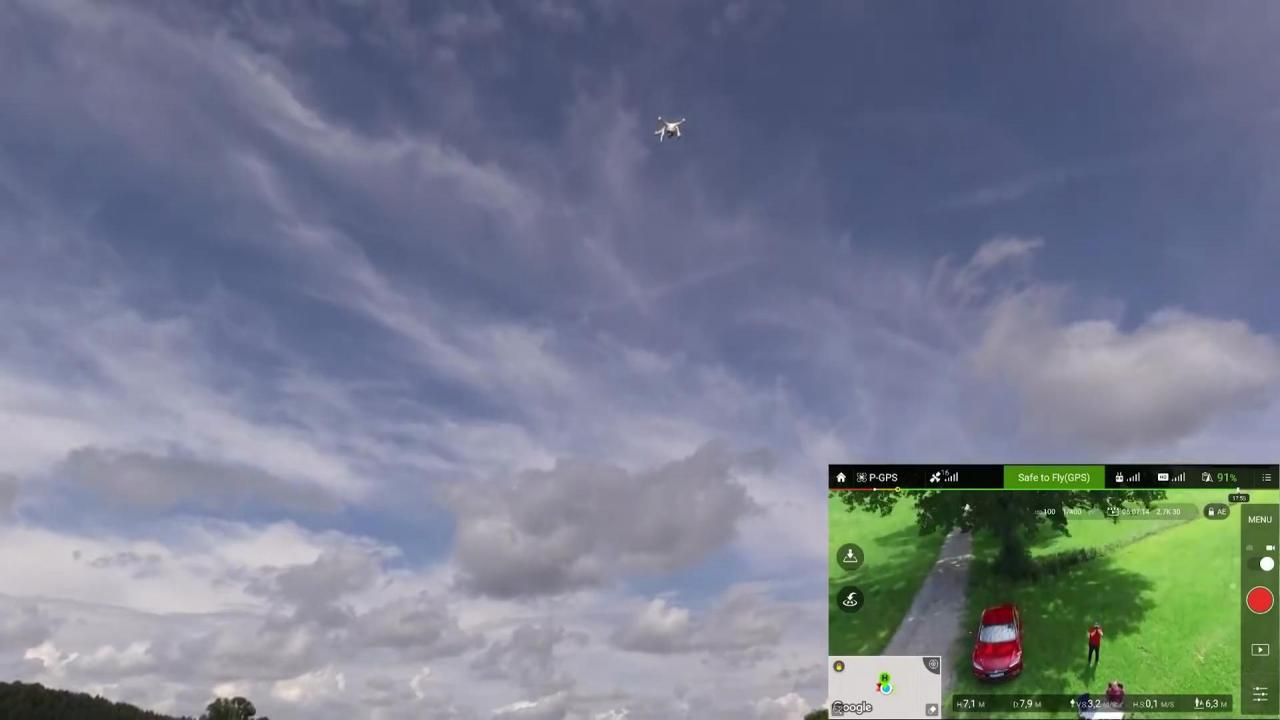Drone: (636, 106, 695, 150)
